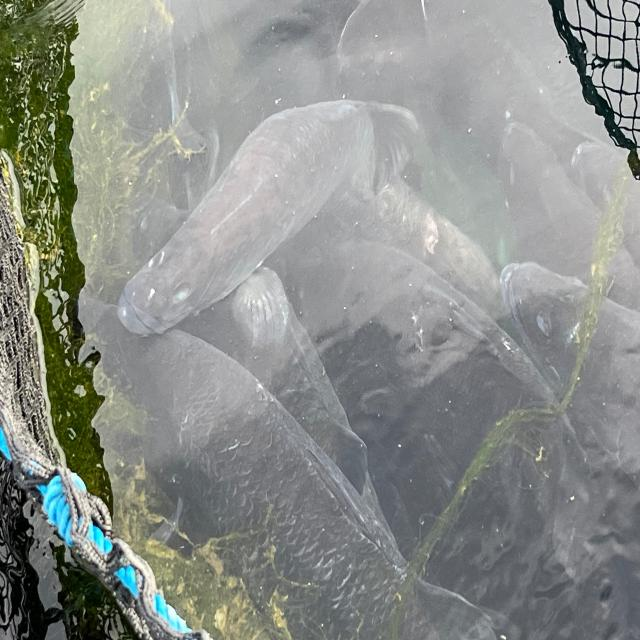ikan: (76, 282, 510, 638), (116, 96, 508, 341)
